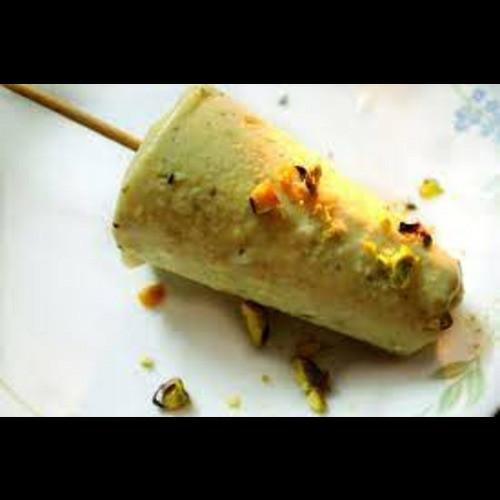Kulfi: (112, 82, 464, 354)
